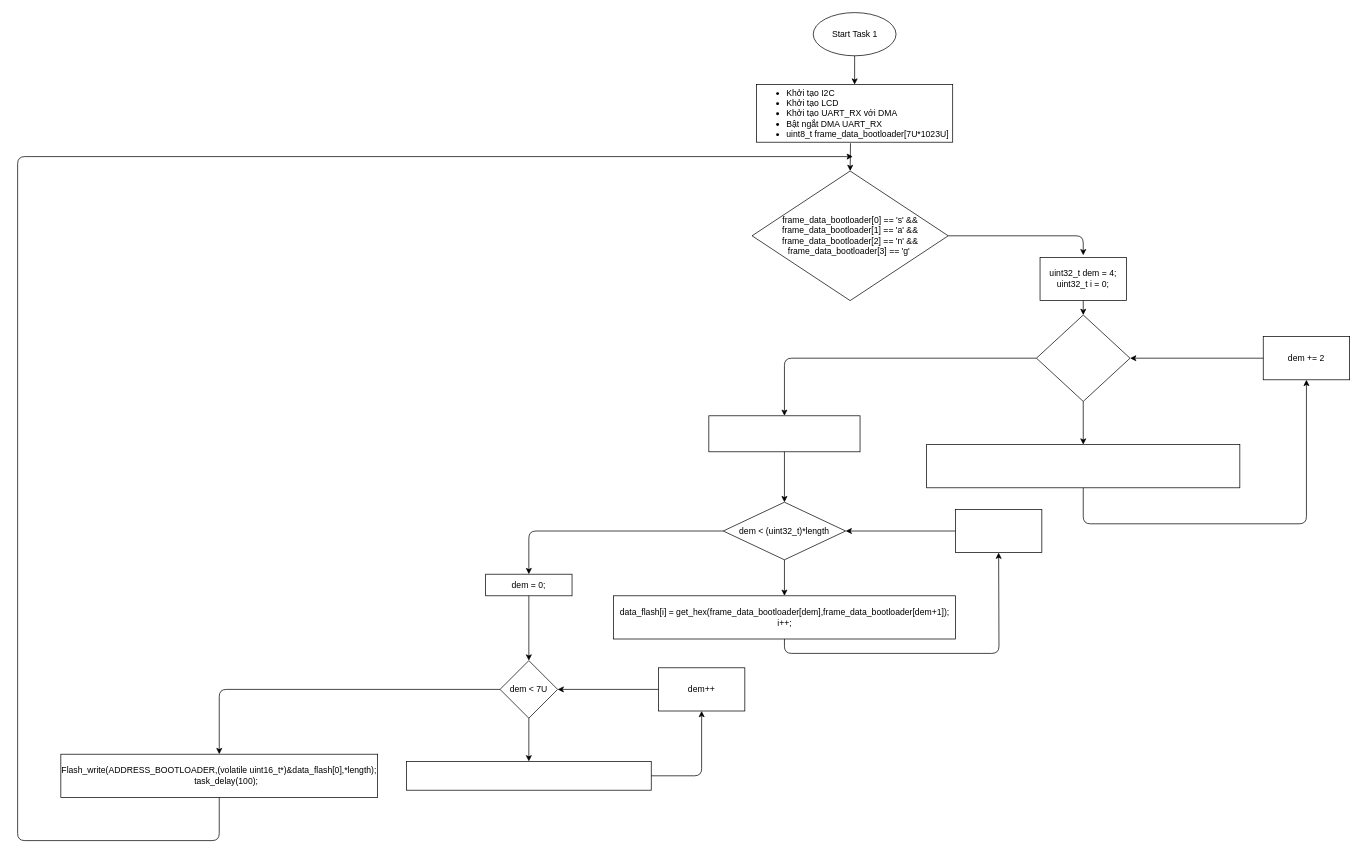
This 1362x859 diagram has some shape labels left out. The shapes that lost their labels are listed below. From the top down, each one's centre as x and y in pixels, then its label:
point (1083, 357): dem < 8
point (784, 433): uint32_t *length = (uint32_t*)&size[0]; dem = 8; i=0;
point (1083, 466): size[i] =get_hex(frame_data_bootloader[dem],frame_data_bootloader[dem+1]); i++;
point (998, 531): dem+=2U
point (528, 775): FLash_erase(ADDRESS_BOOTLOADER + 1023U*dem);
